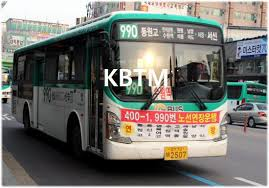bnum: (119, 23, 138, 38)
